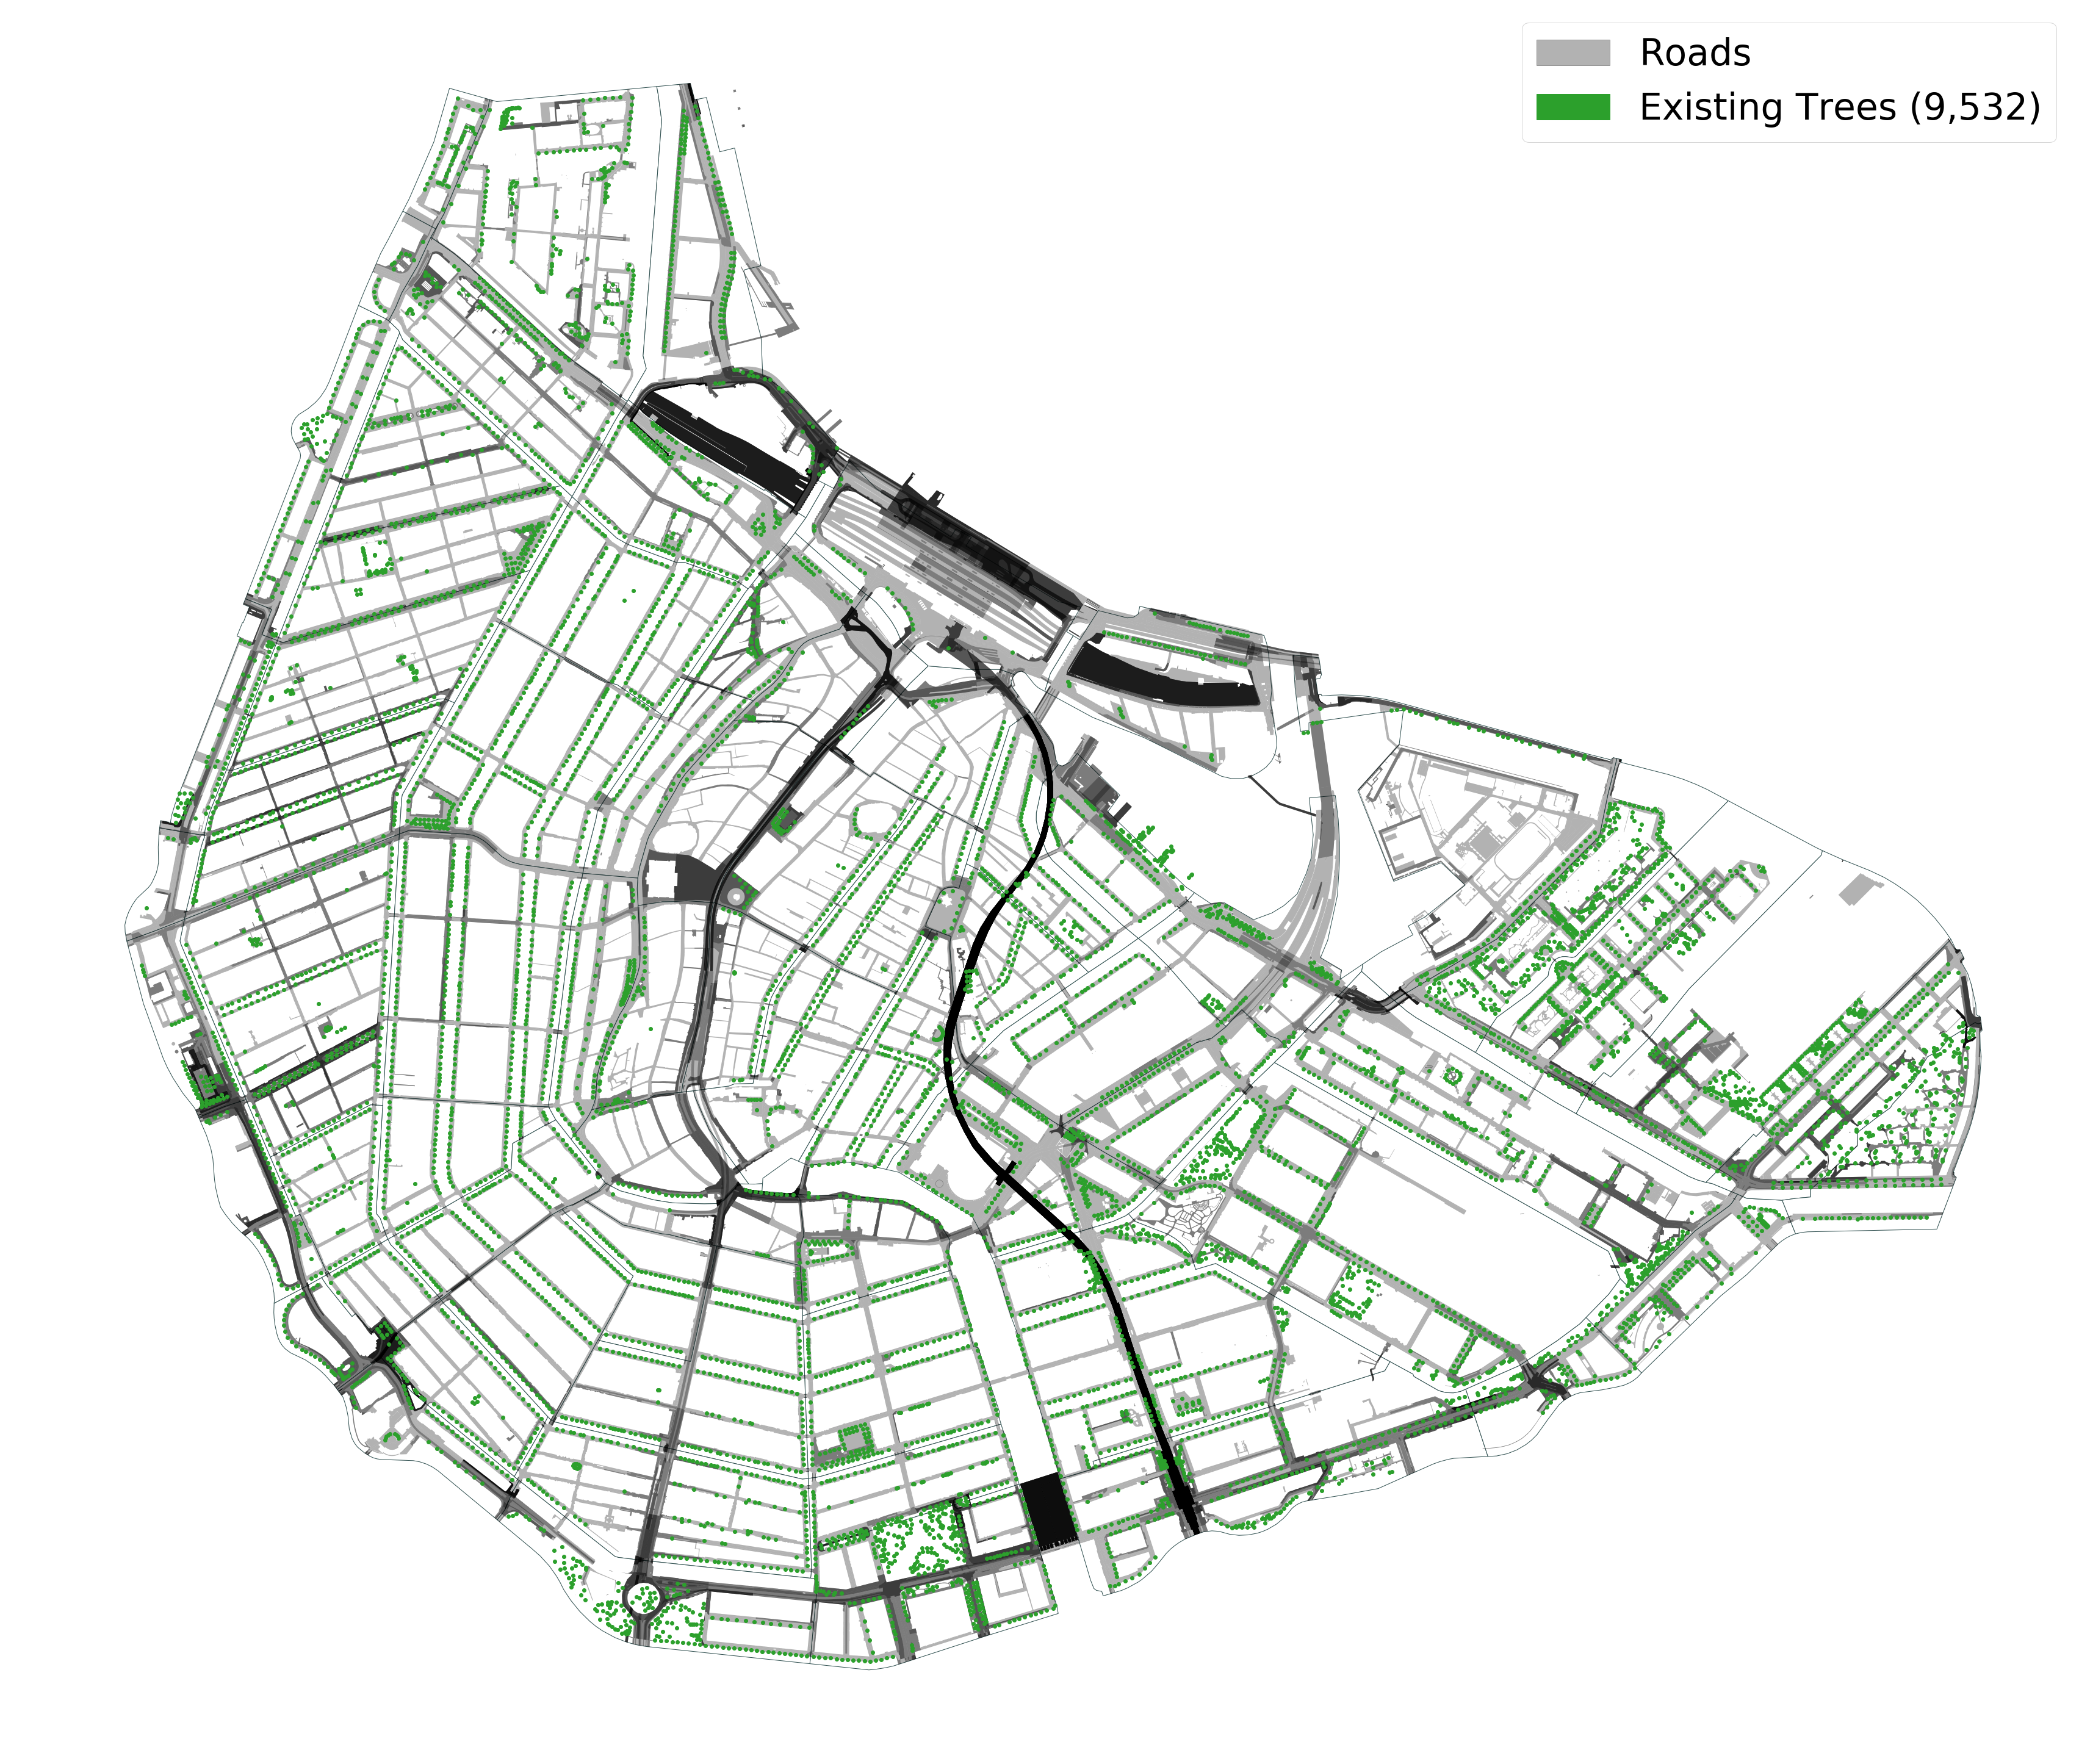

Layout of this report page (visuals, bound fields, positions):
{"tool":"tableau","page":{"name":"Dashboard 1","canvas":[1000,1000],"units":"permille","ordinal":0},"visuals":[{"type":"worksheet","title":"pt","mark":"Line","rows":["0"],"cols":["tiny_forest_area"],"box":[10,14.6,980,970.9]},{"type":"legend","title":"pt","param":"[federated.0cbgzb50fwx32t0zqqtpc04w2hoo].[none:Calculation_1052153505004306432:n","box":[810.5,71,139.7,306]}]}

Visuals, with their boxes on the dashboard's canvas, which has no fixed pixel size, in thousandths of its width and height (x1, y1, x2, y2). These are canvas units, not pixel positions in the 2079x1764 screenshot, which may show the page scaled, cropped or inside an application window:
"pt" worksheet (Line marks): [x1=10, y1=15, x2=990, y2=986]
"pt" legend: [x1=810, y1=71, x2=950, y2=377]
